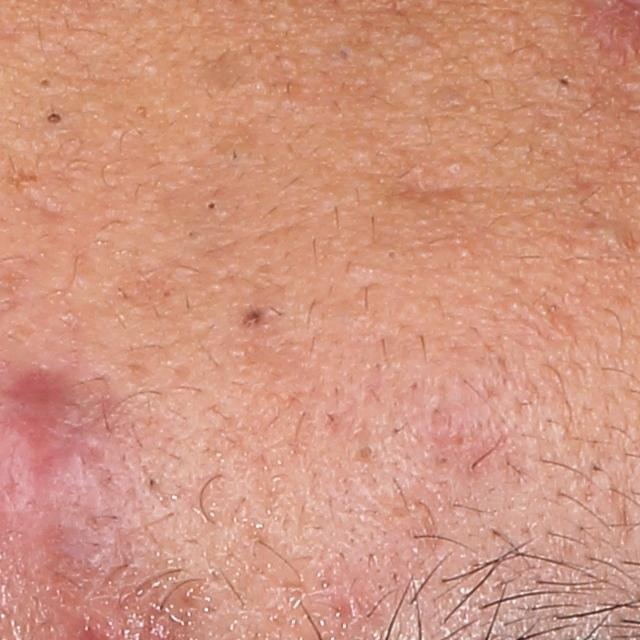comedo: (595, 219, 637, 250), (197, 196, 225, 216), (551, 72, 573, 94), (43, 108, 67, 128), (352, 446, 374, 466), (386, 248, 398, 263)
nevus: (237, 307, 270, 331)
